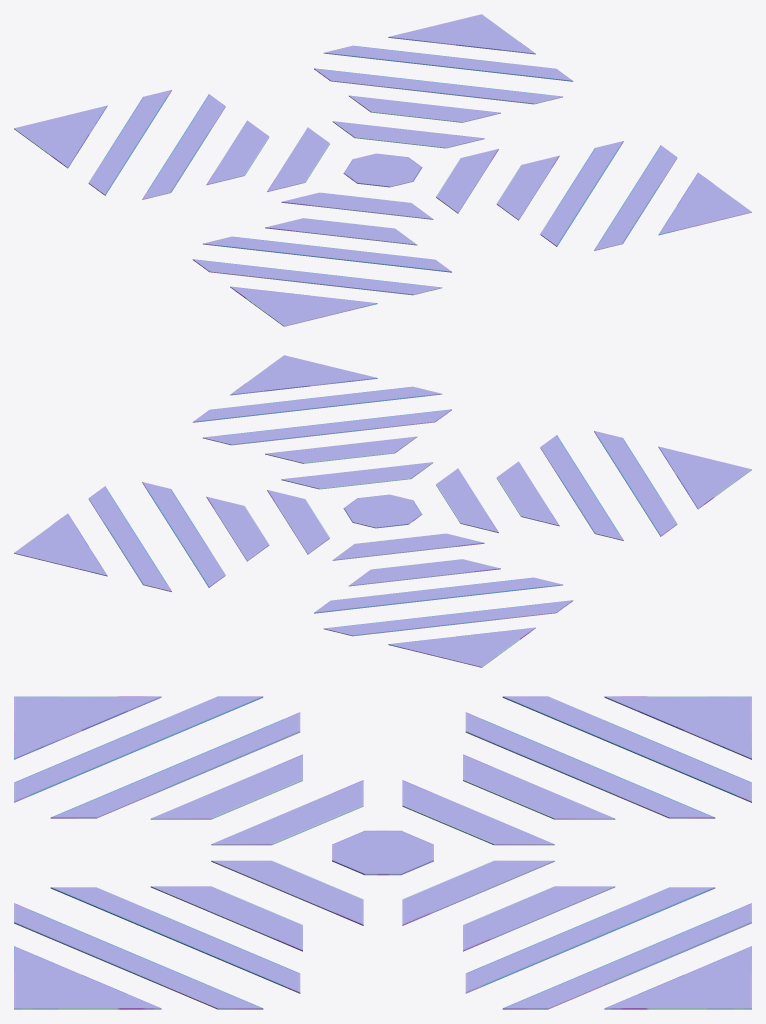
Rendered from Starport_landing.fbx.
The picture shows the model from 3 angles, top to bottom: view 1: azimuth 30°, elevation 25°; view 2: azimuth 150°, elevation 25°; view 3: azimuth 270°, elevation 25°; orthographic projection. The views are drawn at different scales.
Visible parts, largest first — view 1: Starport_landing; view 2: Starport_landing; view 3: Starport_landing.
Part boxes in pixels (left/top/right/bottom): Starport_landing: left=14, top=14, right=751, bottom=326; Starport_landing: left=14, top=355, right=751, bottom=667; Starport_landing: left=14, top=696, right=751, bottom=1009.
Bounding box in the file's own units: 285 × 0.502 × 285.
